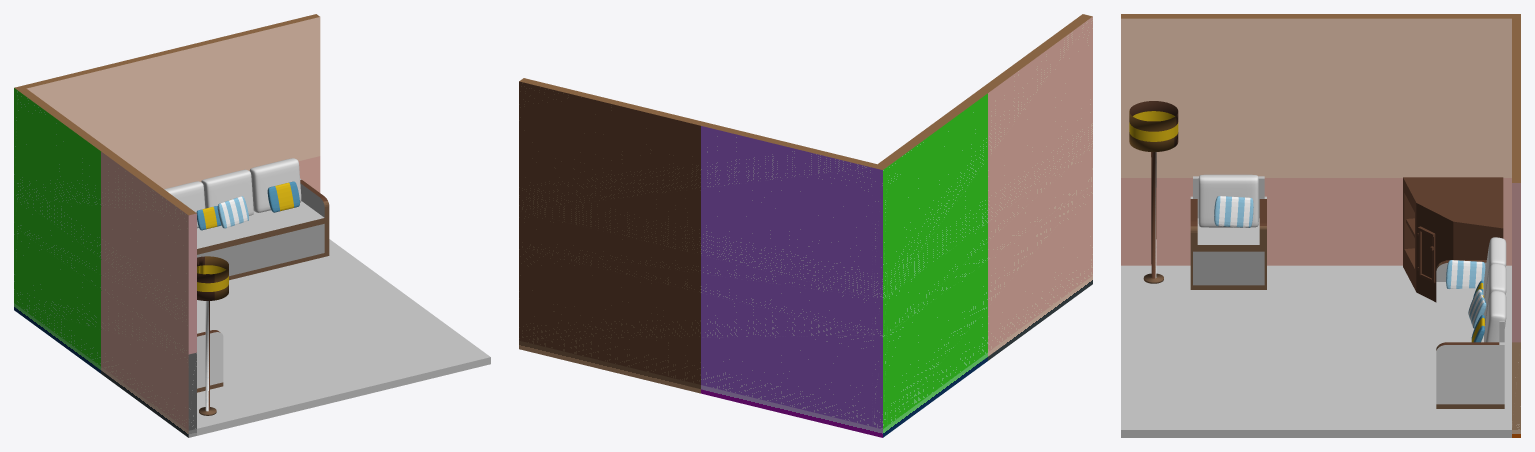
File: Room.fbx
3 views of the same model, side by side, from view 1: azimuth 30°, elevation 25°; view 2: azimuth 150°, elevation 25°; view 3: azimuth 270°, elevation 25° (orthographic). The views are drawn at different scales.
Parts seen in each view (by area): view 1: Cube, Cube.001, Circle, Cube.002, Cube.003, Cube.005, Cube.006, Cube.004, Cube.008, Cube.007; view 2: Cube; view 3: Cube, Cube.018, Cube.001, Cube.005, Circle, Cube.011, Cube.010, Cube.009, Cube.002, Cube.004, Cube.003, Cube.008.
Boxes of the visible parts, x1,y1,x2,y2 form: Cube: [14, 14, 490, 437]; Cube.001: [197, 178, 329, 280]; Circle: [197, 256, 228, 415]; Cube.002: [249, 158, 301, 212]; Cube.003: [201, 169, 253, 215]; Cube.005: [197, 328, 223, 392]; Cube.006: [267, 181, 299, 212]; Cube.004: [164, 181, 205, 228]; Cube.008: [217, 196, 248, 228]; Cube.007: [196, 206, 221, 230]; Cube: [519, 14, 1092, 437]; Cube: [1121, 14, 1520, 437]; Cube.018: [1403, 177, 1503, 302]; Cube.001: [1436, 260, 1504, 408]; Cube.005: [1190, 176, 1266, 289]; Circle: [1129, 101, 1178, 283]; Cube.011: [1198, 174, 1258, 227]; Cube.010: [1214, 196, 1253, 227]; Cube.009: [1446, 260, 1485, 288]; Cube.002: [1484, 291, 1506, 342]; Cube.004: [1483, 237, 1506, 298]; Cube.003: [1484, 263, 1506, 324]; Cube.008: [1468, 289, 1486, 328].
Bounding box in the file's own units: 1466 × 1031 × 1466.
6 materials, 5 textured.
